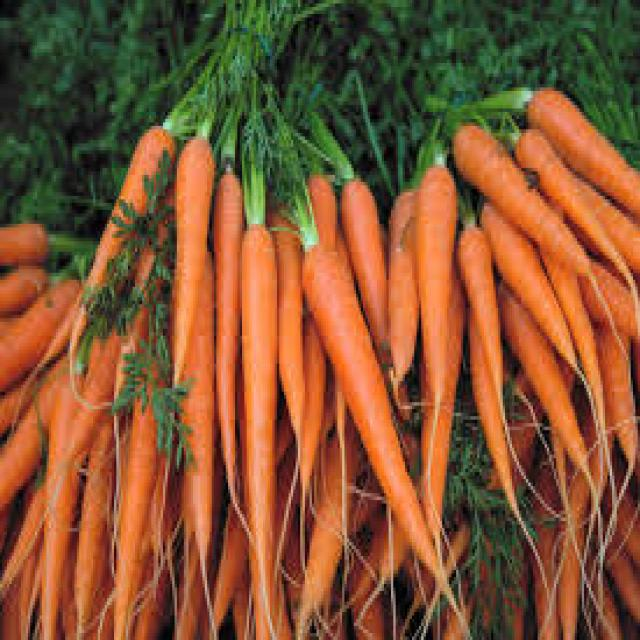Carrot: (239, 229, 281, 628), (214, 176, 241, 504)
